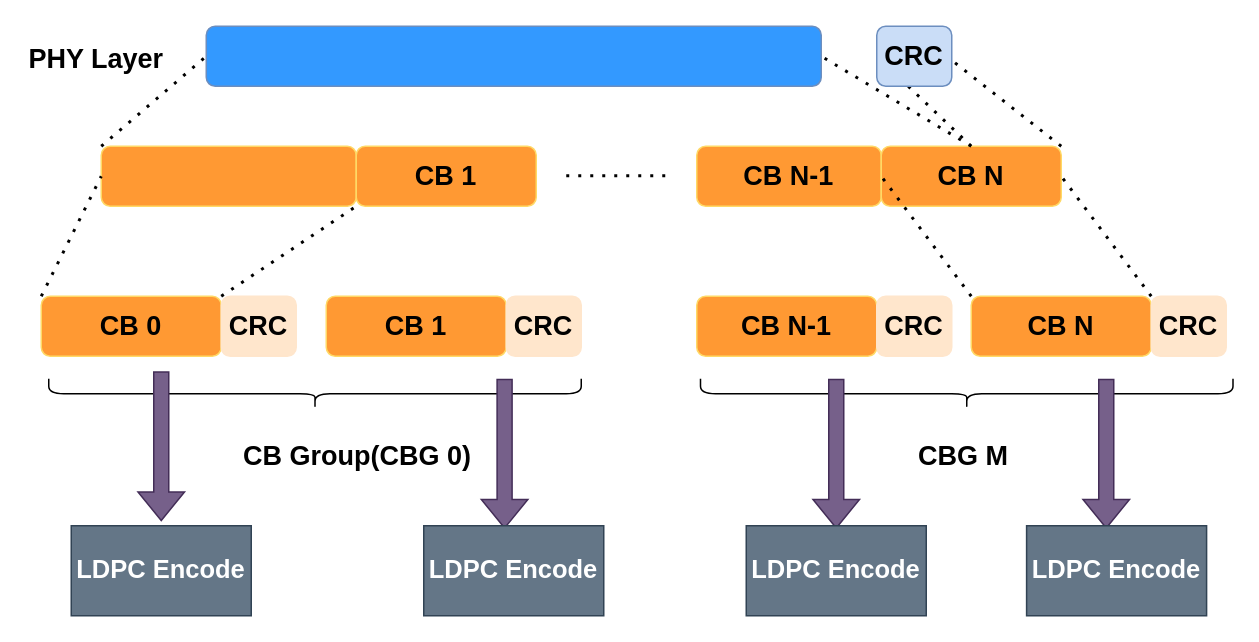
The diagram is 1259 pixels wide and 642 high, and some of its shapes have lost their labels. Each missing label, with the box of its shape:
Code Block(CB 0 ): (100, 145, 356, 206)
Transport Block (TB): (205, 25, 821, 86)
